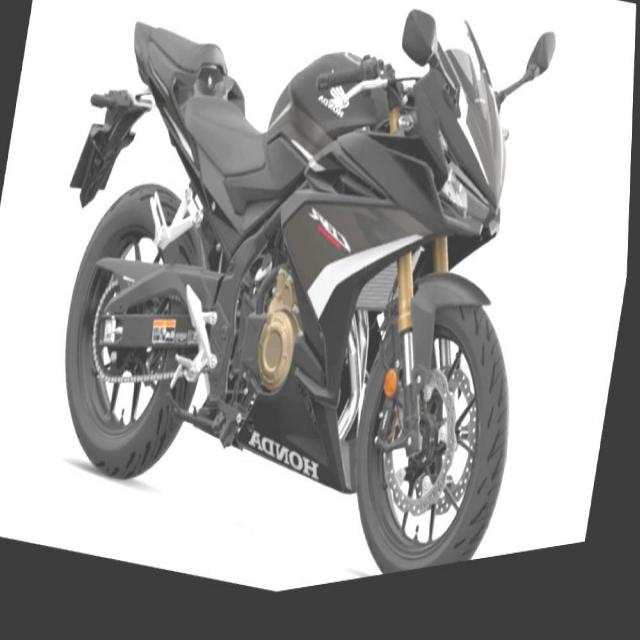CBR500R: (22, 0, 581, 634)
